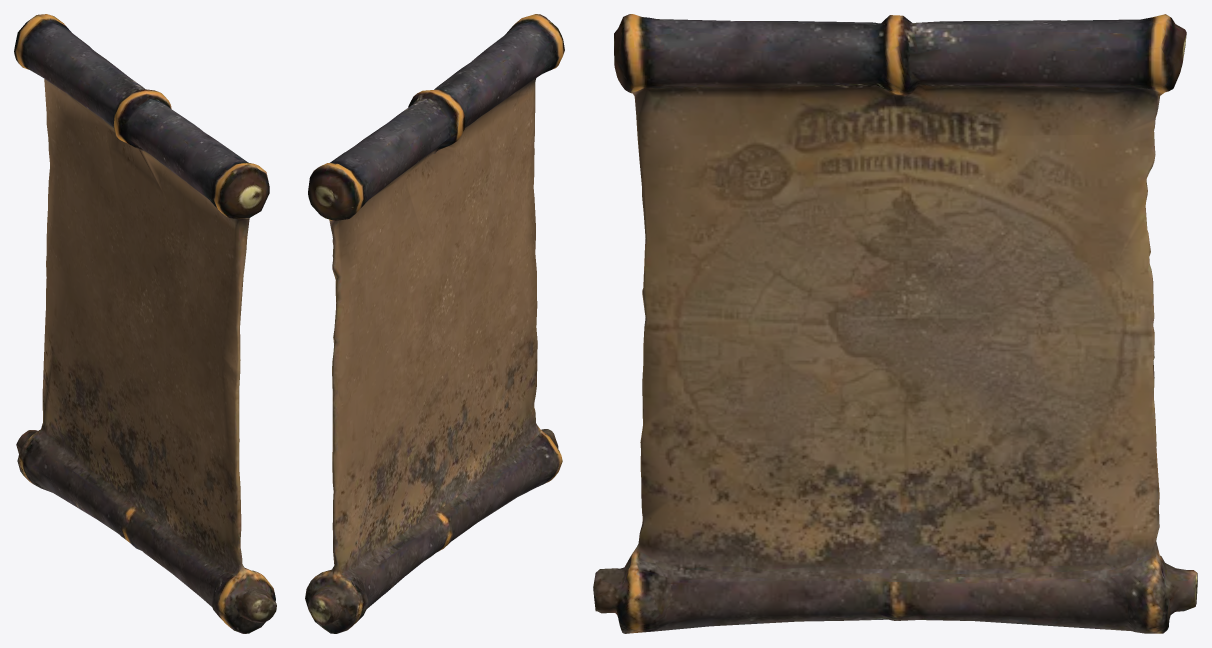
The model's file is mapa.glb.
The picture shows the model from 3 angles, left to right: view 1: azimuth 30°, elevation 25°; view 2: azimuth 150°, elevation 25°; view 3: azimuth 270°, elevation 25°; orthographic projection. The views are drawn at different scales.
Visible parts, largest first — view 1: model; view 2: model; view 3: model.
Part boxes in pixels (box(x1,y1,x2,y2)): model: box(14, 14, 276, 633); model: box(305, 14, 564, 633); model: box(593, 14, 1197, 633).
Size of the model in its own units: 0.1869 by 1.46 by 1.3.
Materials: 1 (1 with a texture image).
